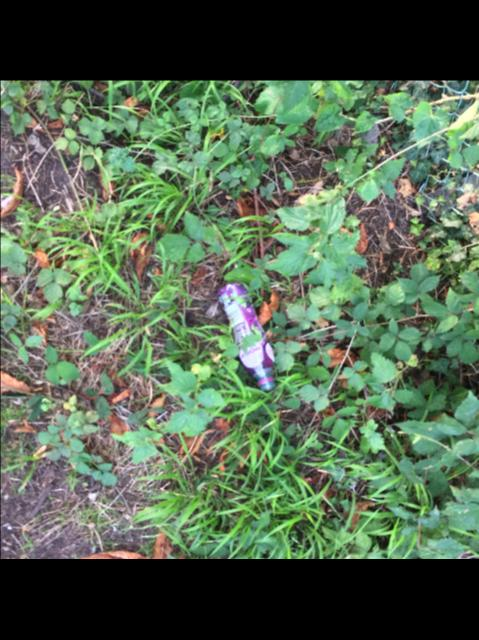plastic: (217, 283, 274, 391)
